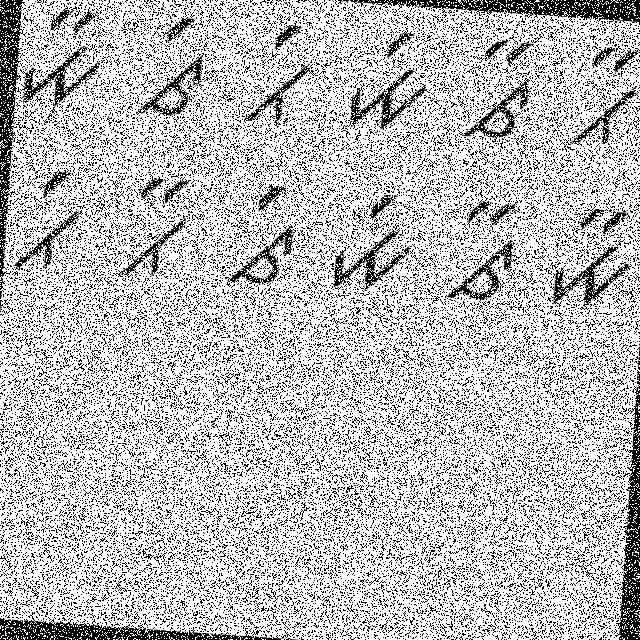ban: (113, 165, 195, 285), (563, 40, 639, 155)
bang: (234, 17, 320, 128), (10, 158, 86, 278)
can: (452, 30, 540, 151), (439, 190, 522, 316)
cang: (220, 176, 310, 292), (134, 10, 213, 120)
man: (536, 196, 638, 311), (18, 0, 118, 117)
mang: (317, 185, 418, 298), (342, 18, 432, 137)
